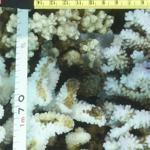alive: (1, 2, 149, 148)
